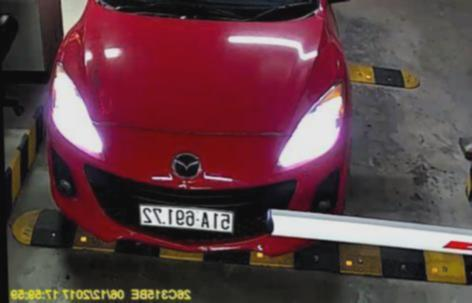License_Plate: (136, 198, 241, 233)
